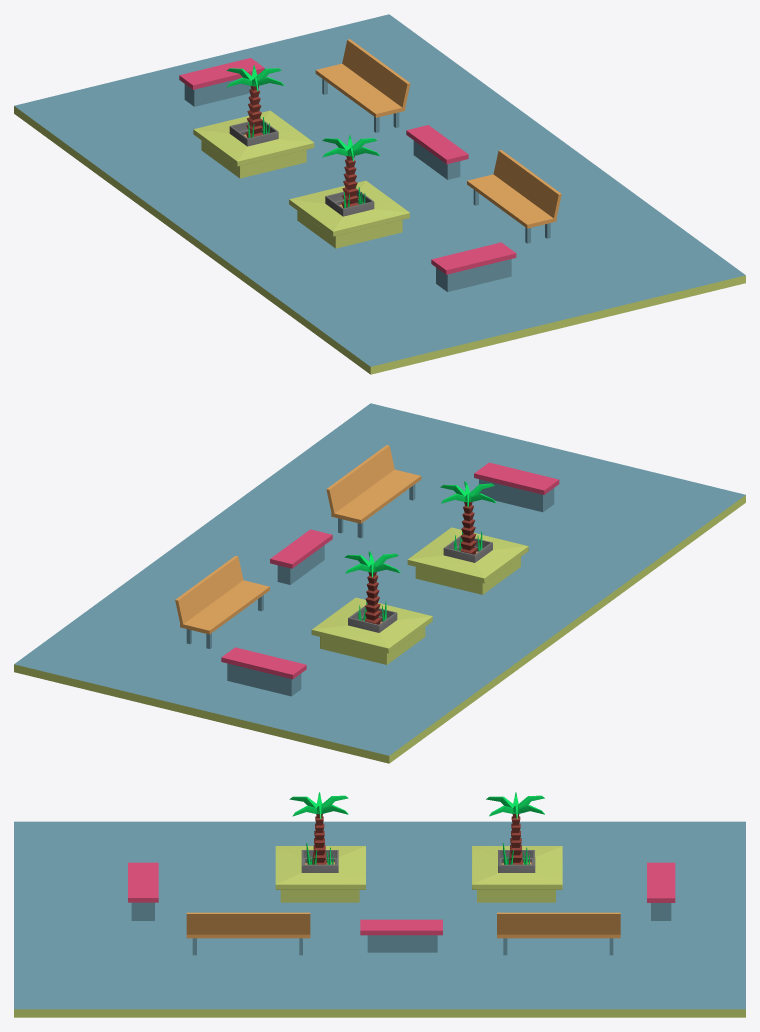
Rendered from Rest Room 2.fbx.
3 views of the same model, one above another, from view 1: azimuth 30°, elevation 25°; view 2: azimuth 150°, elevation 25°; view 3: azimuth 270°, elevation 25° (orthographic). The views are drawn at different scales.
Visible parts, largest first — view 1: Cube.002, SI_Prop_ConcreteBench_01, SI_Prop_ConcreteBench_01.003; view 2: Cube.002, SI_Prop_ConcreteBench_01, SI_Prop_ConcreteBench_01.003; view 3: Cube.002, SI_Prop_ConcreteBench_01, SI_Prop_ConcreteBench_01.003.
Part boxes in pixels (x1,y1,x2,y2): Cube.002: (14, 14, 745, 374); SI_Prop_ConcreteBench_01: (289, 135, 409, 248); SI_Prop_ConcreteBench_01.003: (193, 65, 314, 178); Cube.002: (14, 403, 745, 763); SI_Prop_ConcreteBench_01: (407, 481, 528, 594); SI_Prop_ConcreteBench_01.003: (311, 551, 432, 664); Cube.002: (14, 821, 745, 1017); SI_Prop_ConcreteBench_01: (275, 792, 365, 902); SI_Prop_ConcreteBench_01.003: (472, 792, 562, 902).
Size of the model in its own units: 1000 by 235 by 1646.
